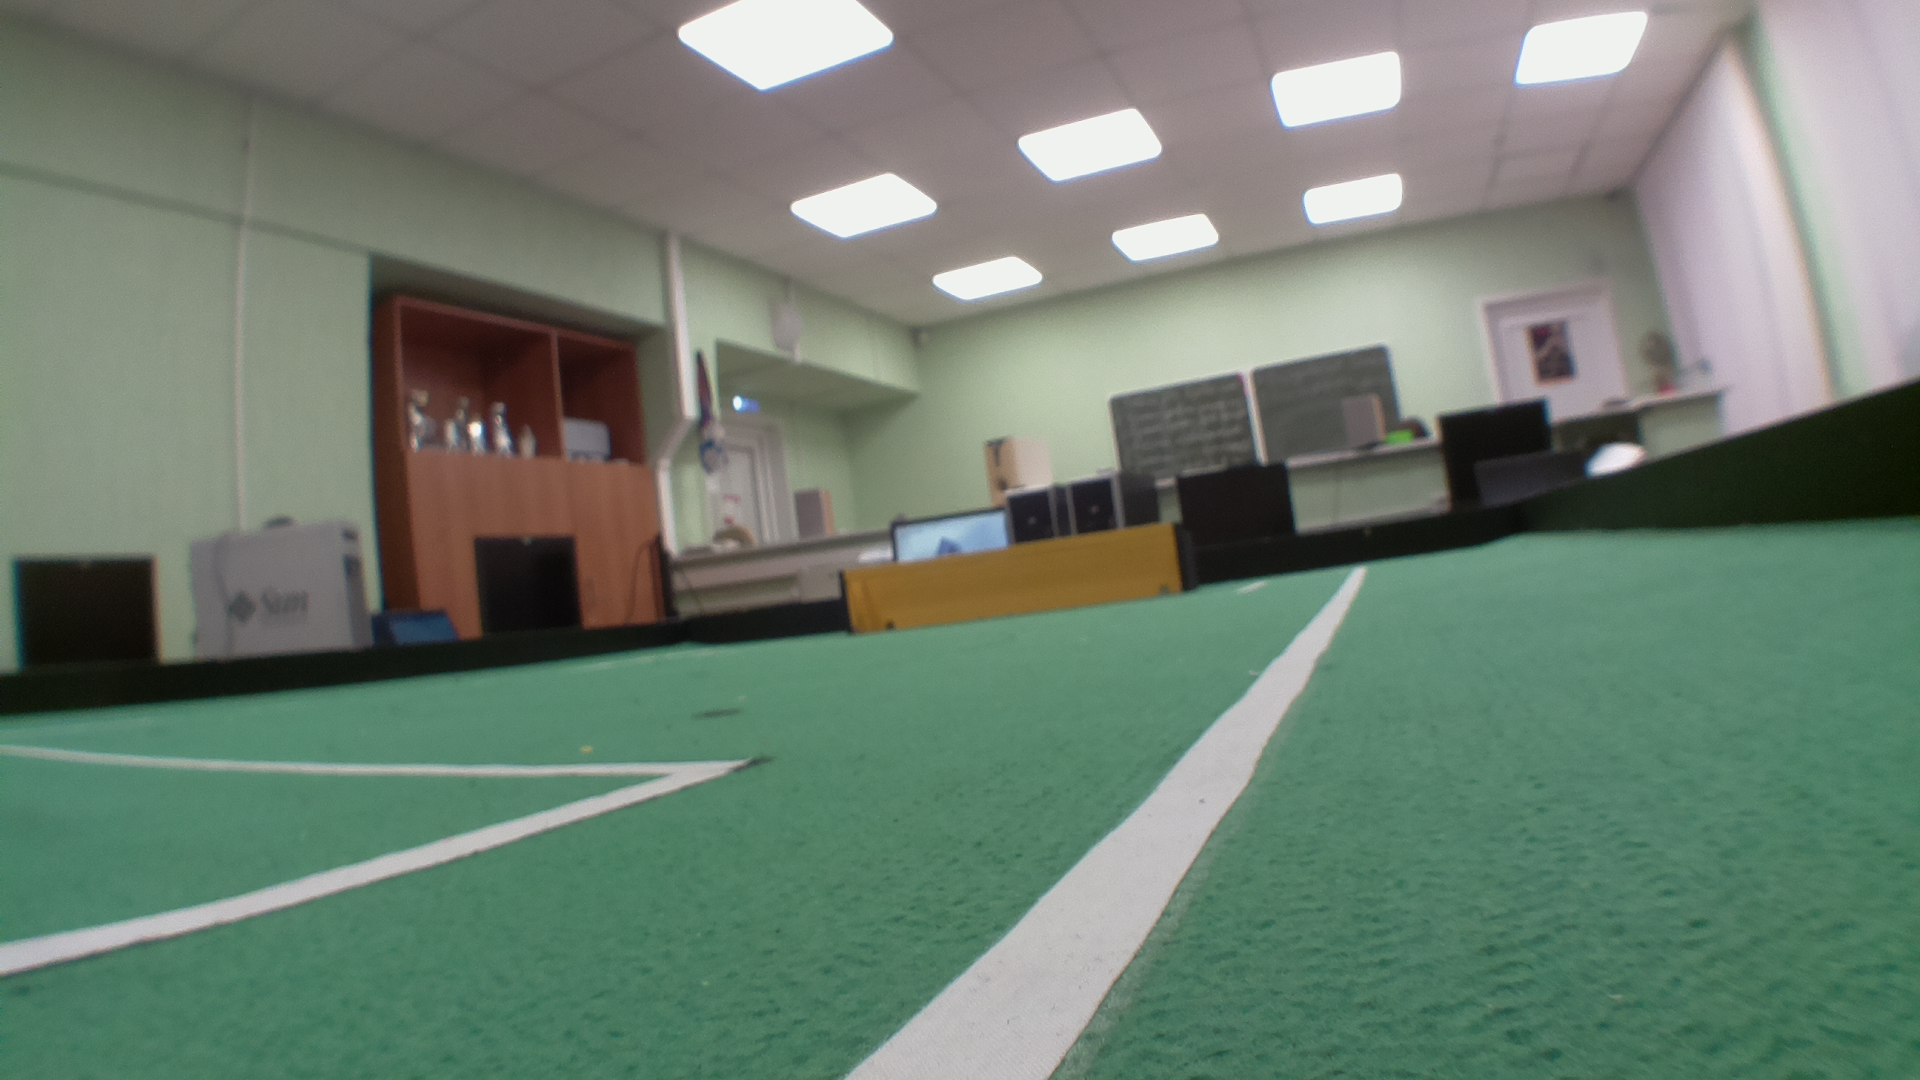YellowGoal: (837, 527, 1182, 630)
